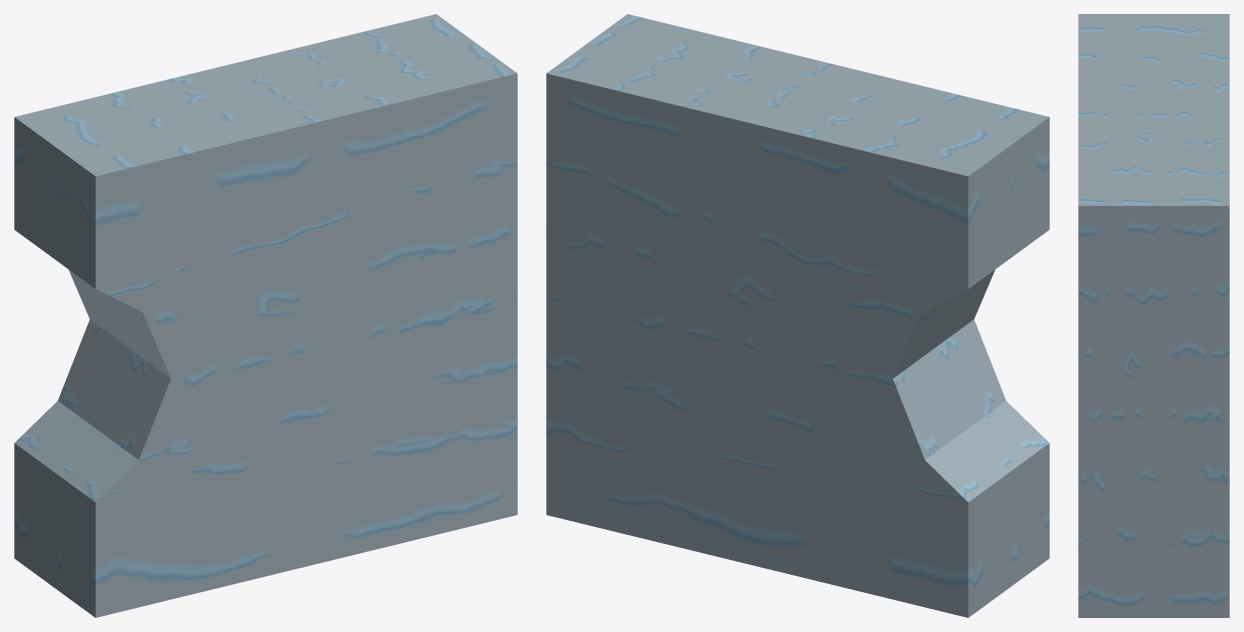
File: A1_Wall001.fbx
3 renders of one model, left to right at view 1: azimuth 30°, elevation 25°; view 2: azimuth 150°, elevation 25°; view 3: azimuth 270°, elevation 25°, orthographic. The views are drawn at different scales.
Visible parts, largest first — view 1: A1_Wall_pt1; view 2: A1_Wall_pt1; view 3: A1_Wall_pt1.
Boxes of the visible parts, bbox=[...] form: A1_Wall_pt1: bbox=[14, 14, 517, 617]; A1_Wall_pt1: bbox=[546, 14, 1049, 617]; A1_Wall_pt1: bbox=[1078, 14, 1229, 617].
Size of the model in its own units: 300 by 300 by 100.
Materials: 1 (1 with a texture image).
